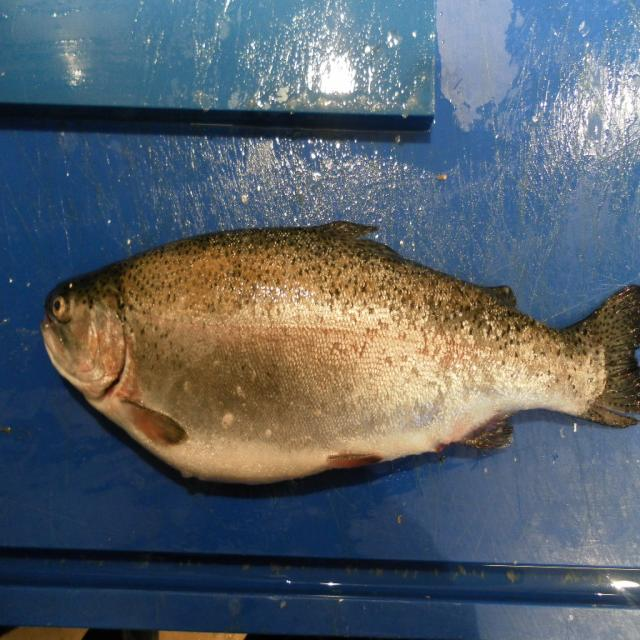Trout-alabalik-: (41, 222, 640, 483)
